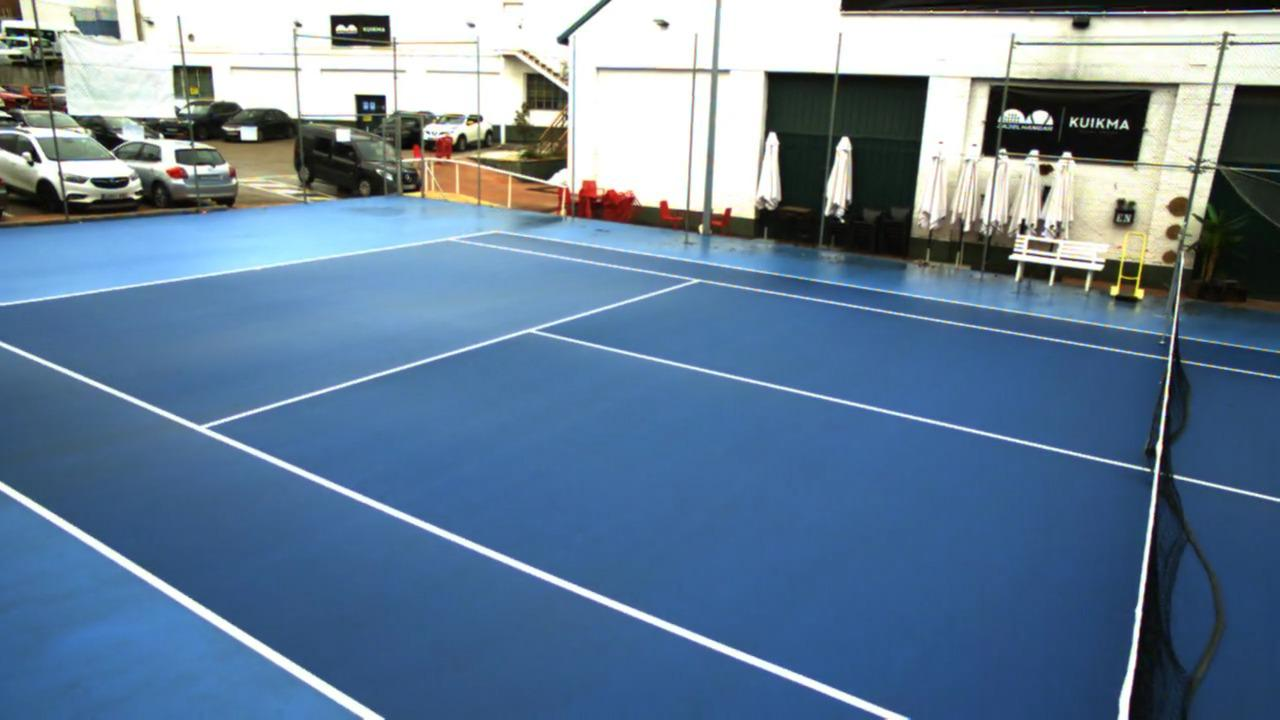cancha_tenis: (0, 237, 1278, 720)
point_f2: (436, 226, 466, 249)
point_fc1: (249, 262, 268, 274)
point_i1: (182, 416, 223, 444)
point_i2: (678, 271, 711, 294)
point_ic1: (516, 320, 554, 342)
